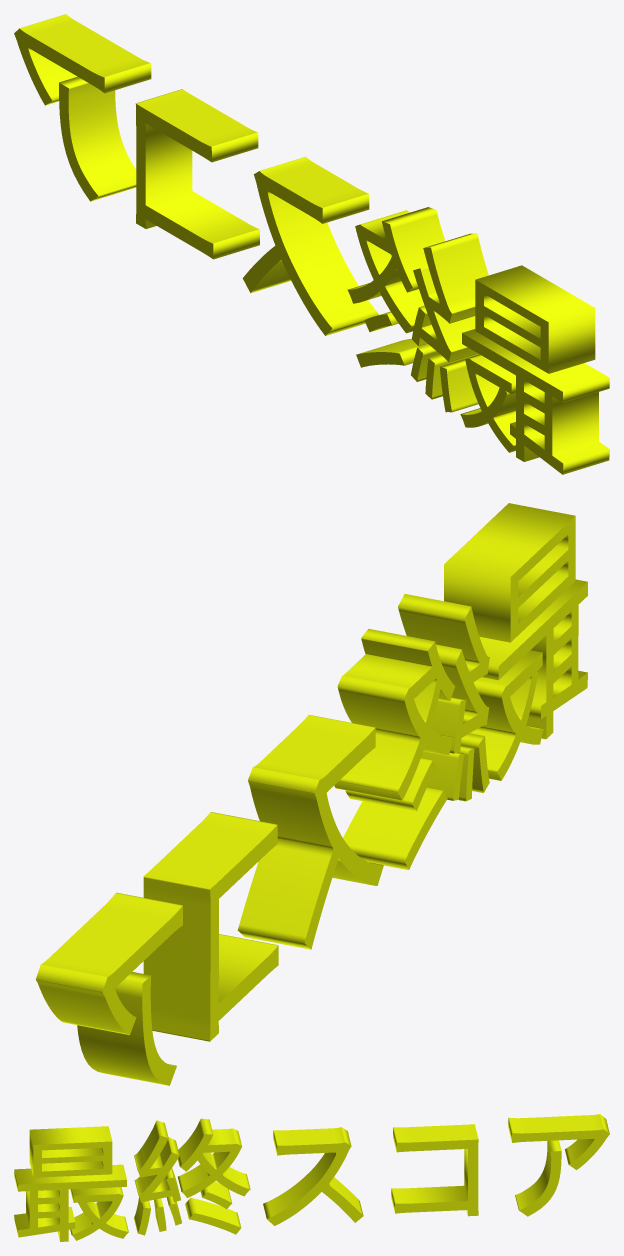
The model's file is Clear.obj.
The picture shows the model from 3 angles, top to bottom: view 1: azimuth 30°, elevation 25°; view 2: azimuth 150°, elevation 25°; view 3: azimuth 270°, elevation 25°; orthographic projection. The views are drawn at different scales.
Visible parts, largest first — view 1: テキスト; view 2: テキスト; view 3: テキスト.
Boxes of the visible parts, left/top/right/bottom form: テキスト: left=14, top=14, right=609, bottom=474; テキスト: left=36, top=503, right=587, bottom=1085; テキスト: left=14, top=1114, right=609, bottom=1241.
Size of the model in its own units: 0.8035 by 0.9284 by 4.89.
